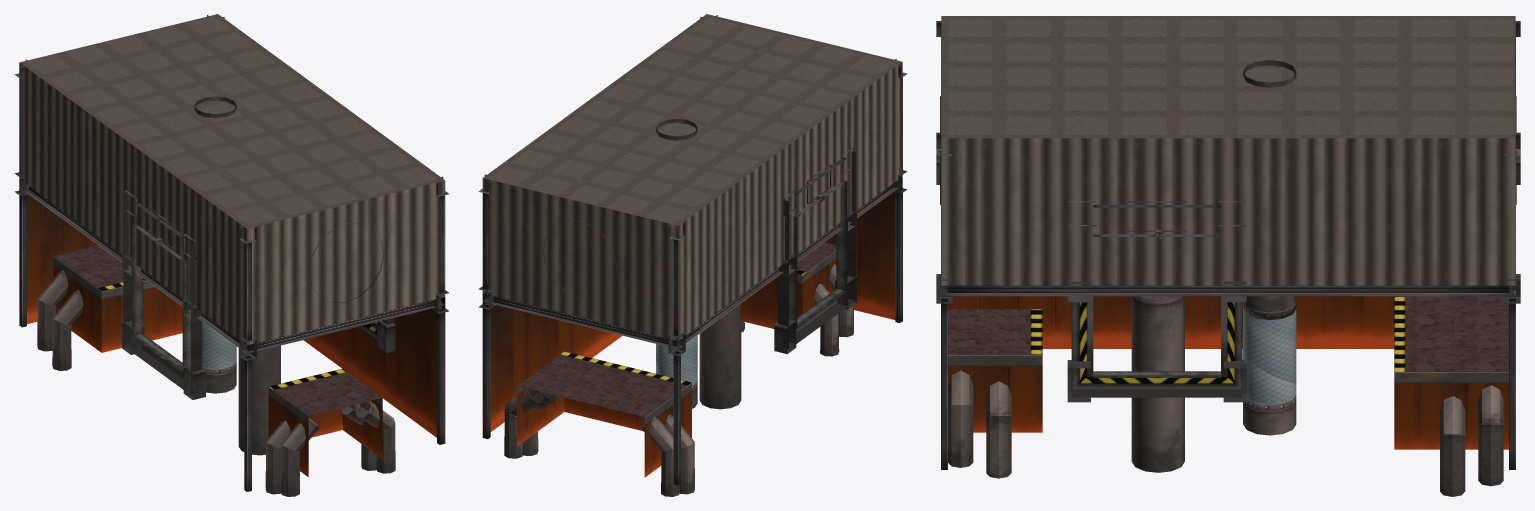
The model's file is molten_bellows_pillars.fbx.
3 views of the same model, side by side, from view 1: azimuth 30°, elevation 25°; view 2: azimuth 150°, elevation 25°; view 3: azimuth 270°, elevation 25° (orthographic). The views are drawn at different scales.
Parts seen in each view (by area): view 1: Walls, Floor, ReinforcedBeams, BucketDoorway, Pipes, Pillars; view 2: Walls, Floor, ReinforcedBeams, BucketDoorway, Pillars, Pipes; view 3: Walls, Floor, Pillars, ReinforcedBeams, BucketDoorway, Pipes.
Boxes of the visible parts, x1,y1,x2,y2 form: Walls: (19, 14, 445, 443); Floor: (53, 245, 382, 476); ReinforcedBeams: (14, 15, 448, 491); BucketDoorway: (122, 190, 395, 399); Pipes: (37, 270, 395, 496); Pillars: (194, 96, 280, 455); Walls: (482, 14, 902, 437); Floor: (517, 242, 836, 477); ReinforcedBeams: (478, 15, 907, 485); BucketDoorway: (774, 147, 857, 354); Pillars: (656, 119, 741, 409); Pipes: (504, 264, 853, 496); Walls: (941, 16, 1515, 348); Floor: (948, 296, 1508, 449); Pillars: (1131, 60, 1296, 472); ReinforcedBeams: (936, 21, 1520, 469); BucketDoorway: (1067, 201, 1246, 402); Pipes: (948, 370, 1503, 496).
Bounding box in the file's own units: 2382 × 3383 × 4591.
